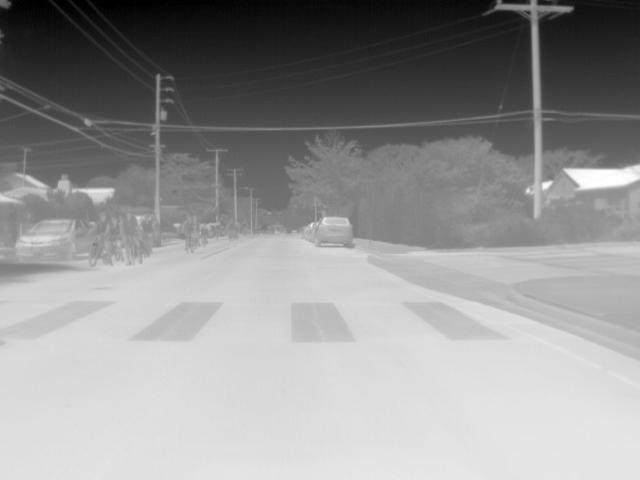car: (15, 216, 98, 266), (314, 214, 354, 248), (303, 220, 320, 238)
person: (123, 209, 144, 255), (93, 209, 110, 258), (140, 211, 160, 246), (177, 215, 198, 239), (107, 214, 121, 241)
